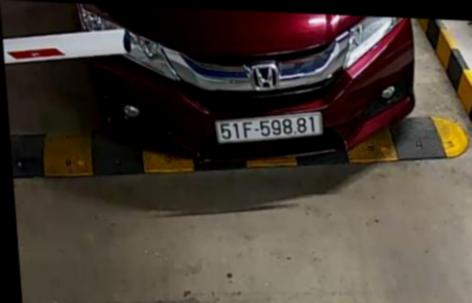License_Plate: (215, 109, 325, 146)
